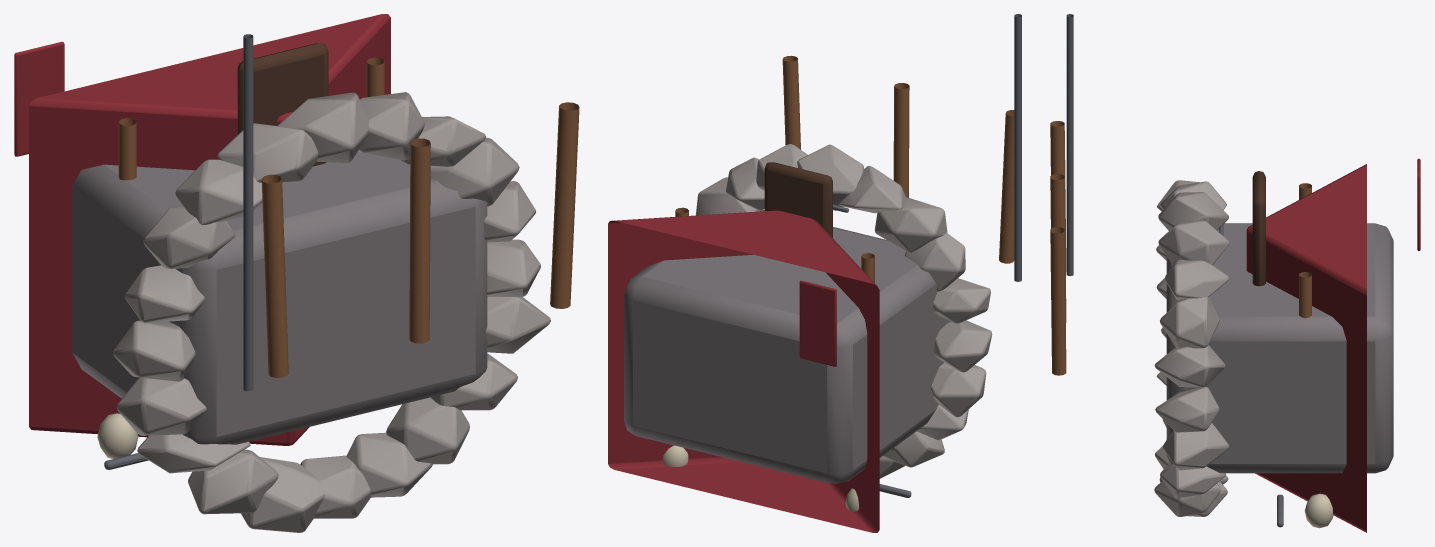
Rendered from barracks.glb.
The picture shows the model from 3 angles, left to right: view 1: azimuth 30°, elevation 25°; view 2: azimuth 150°, elevation 25°; view 3: azimuth 270°, elevation 25°; orthographic projection. The views are drawn at different scales.
Parts seen in each view (by area): view 1: BarracksBody, SaggingRoof, HeavyDoor, Timber.002, Timber.001, Timber, FoundationStone_5, FoundationStone_13, FoundationStone_11, FoundationStone_17, BannerPole, FoundationStone_14 (+19 smaller); view 2: BarracksBody, SaggingRoof, HeavyDoor, Banner, FoundationStone_7, FoundationStone_10, BannerPole, FoundationStone_11, FoundationStone_8, Timber, FoundationStone_5, FoundationStone_6 (+8 smaller); view 3: BarracksBody, SaggingRoof, FoundationStone_2, FoundationStone_4, Timber.002, FoundationStone_1, BannerPole, FoundationStone_0, FoundationStone_19, FoundationStone_3, FoundationStone_5, HeavyDoor (+7 smaller).
Boxes of the visible parts, left/top/right/bottom form: BarracksBody: left=72, top=151, right=487, bottom=444; SaggingRoof: left=29, top=14, right=390, bottom=445; HeavyDoor: left=237, top=43, right=328, bottom=166; Timber.002: left=550, top=102, right=579, bottom=308; Timber.001: left=409, top=138, right=430, bottom=343; Timber: left=261, top=174, right=288, bottom=377; FoundationStone_5: left=277, top=92, right=369, bottom=162; FoundationStone_13: left=188, top=449, right=278, bottom=514; FoundationStone_11: left=116, top=377, right=206, bottom=435; FoundationStone_17: left=386, top=397, right=469, bottom=464; BannerPole: left=243, top=34, right=253, bottom=391; FoundationStone_14: left=241, top=457, right=324, bottom=532; BarracksBody: left=624, top=210, right=950, bottom=483; SaggingRoof: left=608, top=210, right=879, bottom=532; HeavyDoor: left=764, top=162, right=832, bottom=237; Banner: left=799, top=280, right=836, bottom=366; FoundationStone_7: left=874, top=197, right=947, bottom=252; FoundationStone_10: left=934, top=320, right=992, bottom=372; BannerPole: left=1014, top=14, right=1021, bottom=281; FoundationStone_11: left=931, top=362, right=986, bottom=417; FoundationStone_8: left=905, top=233, right=965, bottom=291; Timber: left=999, top=110, right=1014, bottom=263; FoundationStone_5: left=797, top=144, right=863, bottom=210; FoundationStone_6: left=838, top=166, right=905, bottom=213; BarracksBody: left=1166, top=223, right=1393, bottom=473; SaggingRoof: left=1246, top=164, right=1366, bottom=532; FoundationStone_2: left=1160, top=297, right=1219, bottom=348; FoundationStone_4: left=1158, top=220, right=1229, bottom=264; Timber.002: left=1050, top=227, right=1066, bottom=375; FoundationStone_1: left=1154, top=345, right=1225, bottom=387; BannerPole: left=1066, top=14, right=1073, bottom=275; FoundationStone_0: left=1155, top=387, right=1219, bottom=432; FoundationStone_19: left=1163, top=423, right=1228, bottom=470; FoundationStone_3: left=1165, top=259, right=1229, bottom=300; FoundationStone_5: left=1158, top=192, right=1228, bottom=230; HeavyDoor: left=1252, top=171, right=1265, bottom=286.
Size of the model in its own units: 4.22 by 5.59 by 4.41.
